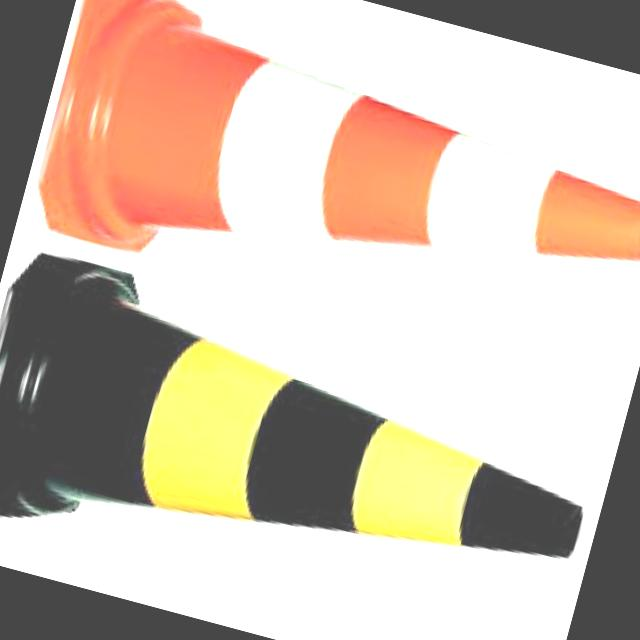cone: (0, 232, 620, 640), (20, 0, 640, 391)
